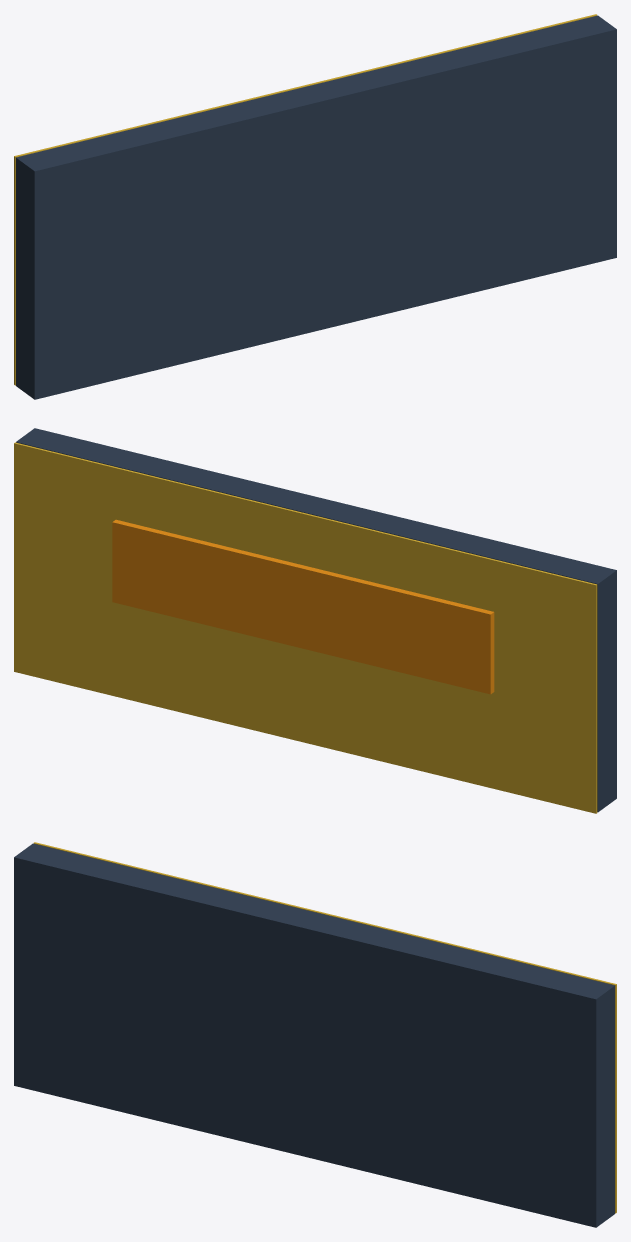
Rendered from Standee chân chữ X 60 x 160.obj.
3 renders of one model, top to bottom at view 1: azimuth 30°, elevation 25°; view 2: azimuth 150°, elevation 25°; view 3: azimuth 330°, elevation 25°, orthographic.
Visible parts, largest first — view 1: Khung_Ket_Cau, Vien_Kim_Loai_Nẹp; view 2: Vien_Kim_Loai_Nẹp, Chu_Noi_3D_Logo, Khung_Ket_Cau; view 3: Khung_Ket_Cau, Vien_Kim_Loai_Nẹp.
Part boxes in pixels (x1=…): Khung_Ket_Cau: x1=16, y1=15, x2=616, y2=399; Vien_Kim_Loai_Nẹp: x1=14, y1=14, x2=597, y2=385; Vien_Kim_Loai_Nẹp: x1=14, y1=442, x2=597, y2=813; Chu_Noi_3D_Logo: x1=112, y1=519, x2=494, y2=694; Khung_Ket_Cau: x1=16, y1=428, x2=616, y2=812; Khung_Ket_Cau: x1=14, y1=843, x2=614, y2=1227; Vien_Kim_Loai_Nẹp: x1=33, y1=842, x2=616, y2=1213.
Bounding box in the file's own units: 1.6 × 0.6 × 0.116.
